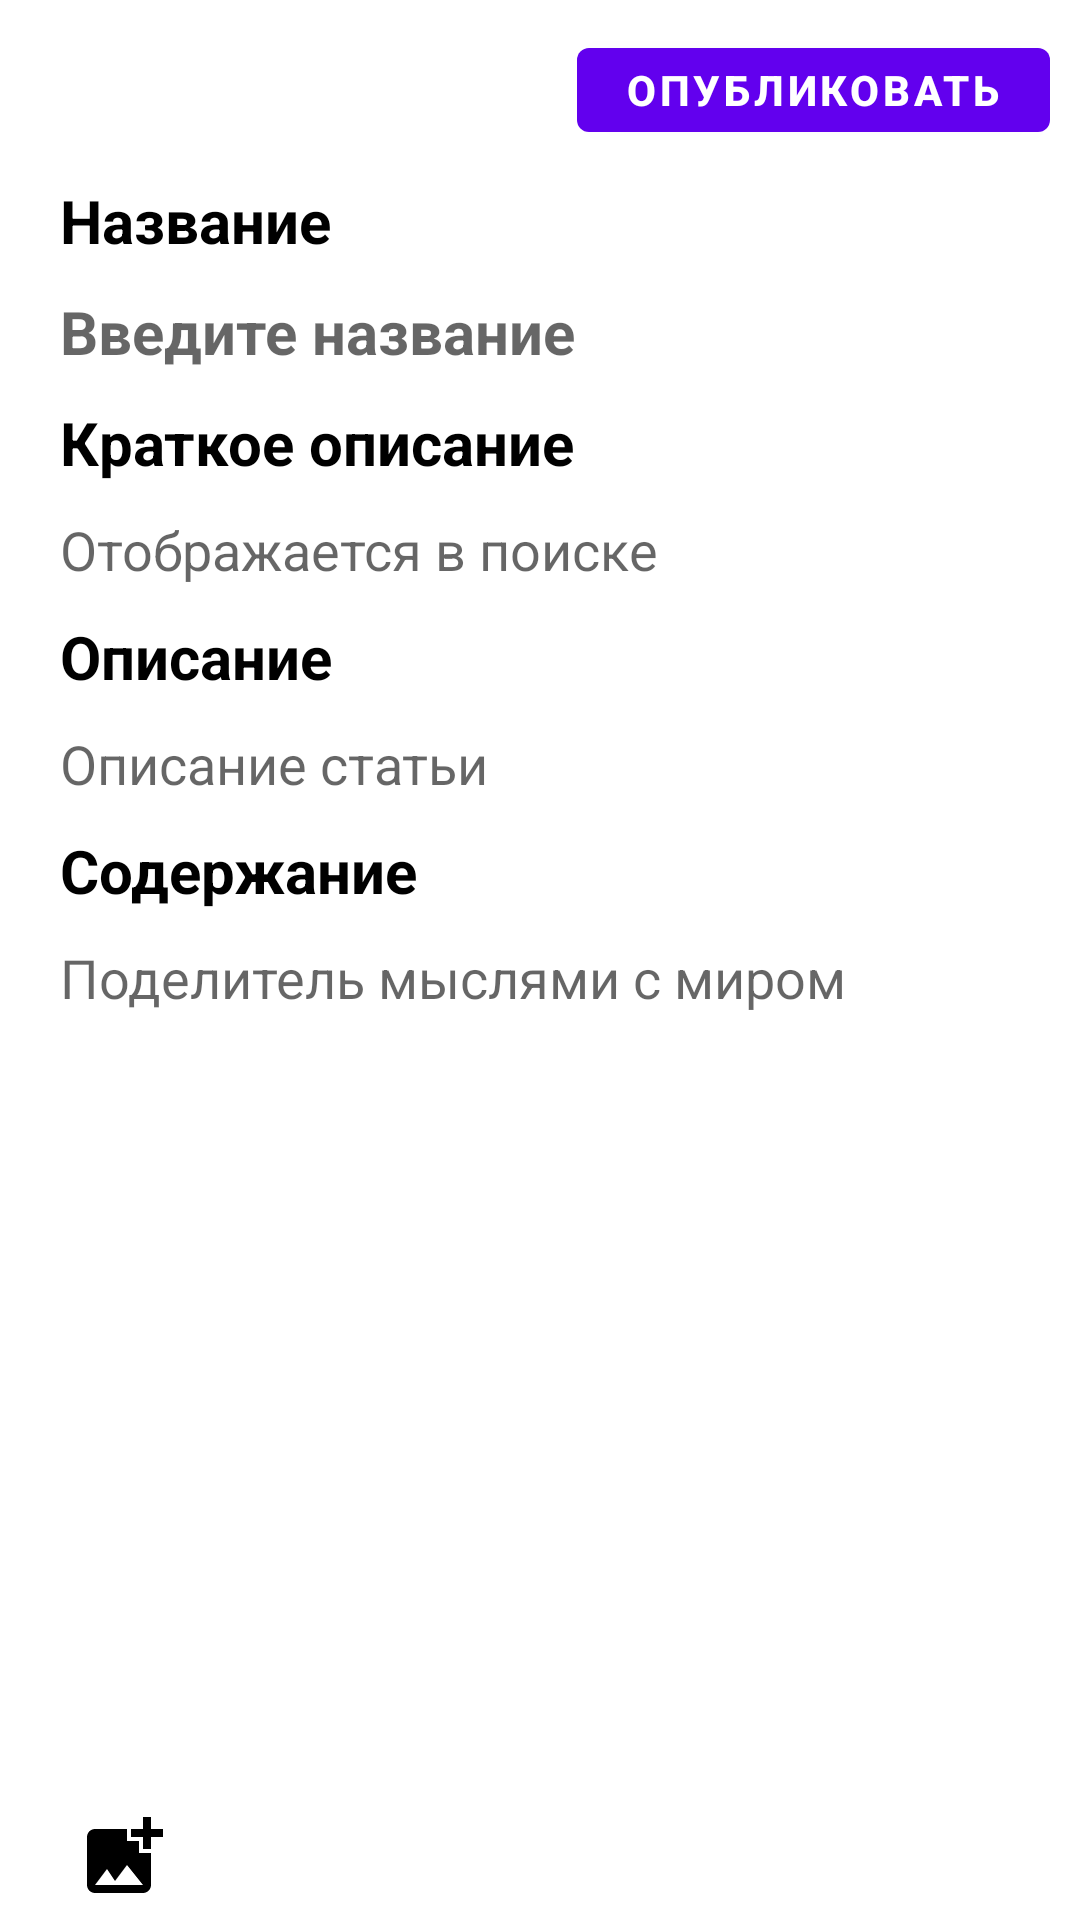

Where to tap for icons on this 1080×1920 app screen, as point (x, y):
Add photo: point (125, 1855)
